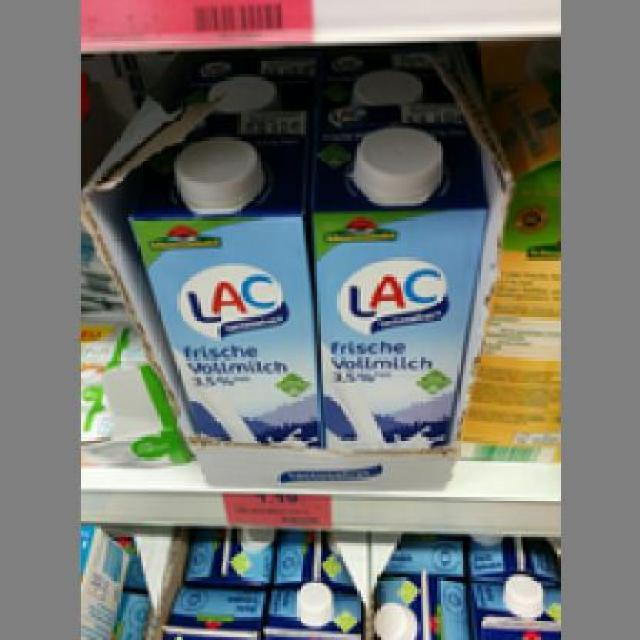Milk: (129, 109, 320, 452), (309, 122, 460, 458)
